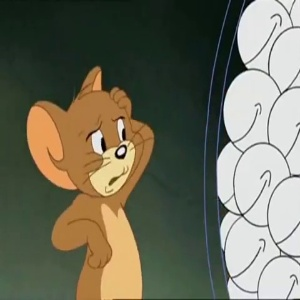Jerry: (27, 63, 160, 199)
